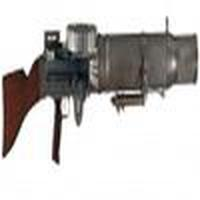gun: (1, 26, 198, 151)
